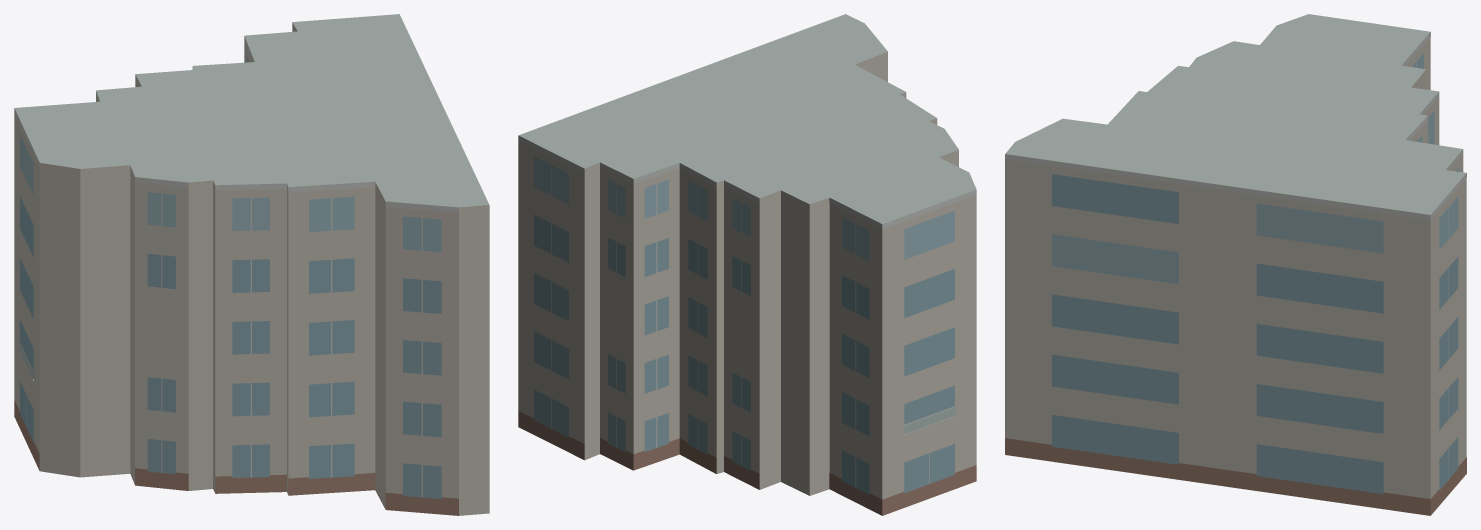
The model's file is survey-upis-32882250.glb.
3 renders of one model, left to right at view 1: azimuth 30°, elevation 25°; view 2: azimuth 150°, elevation 25°; view 3: azimuth 270°, elevation 25°, orthographic. The views are drawn at different scales.
Parts seen in each view (by area): view 1: survey-upis-32882250.tmp; view 2: survey-upis-32882250.tmp; view 3: survey-upis-32882250.tmp.
Part boxes in pixels (<box>): survey-upis-32882250.tmp: <box>14,14,489,515</box>; survey-upis-32882250.tmp: <box>518,14,976,515</box>; survey-upis-32882250.tmp: <box>1005,14,1466,515</box>.
Bounding box in the file's own units: 19.76 × 13.79 × 19.18.
